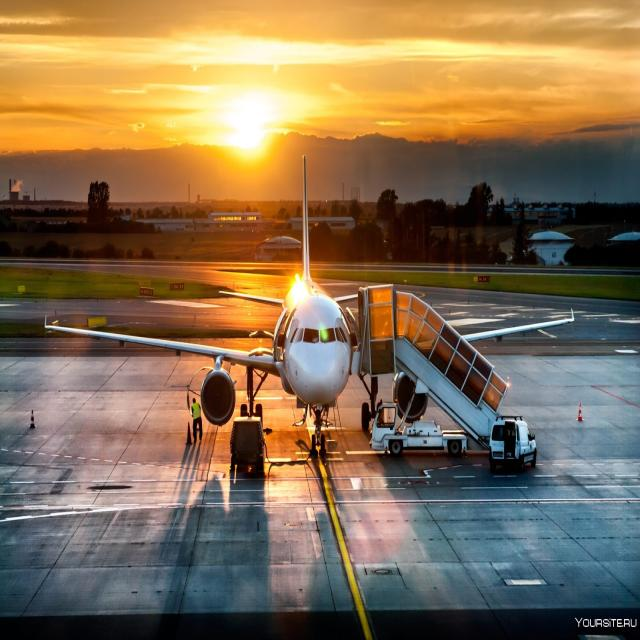plain: (38, 145, 582, 433)
